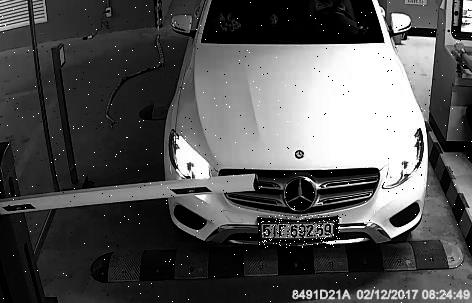License-plate: (260, 216, 343, 249)
